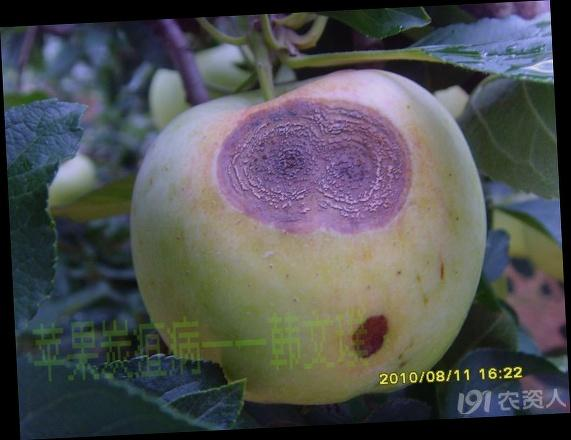rotten apple: (130, 68, 489, 411), (350, 314, 397, 362)
